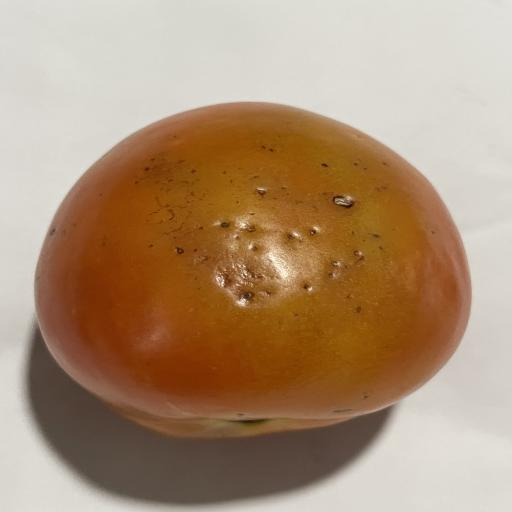overipe: (36, 102, 469, 438)
unripe: (36, 102, 469, 438)
